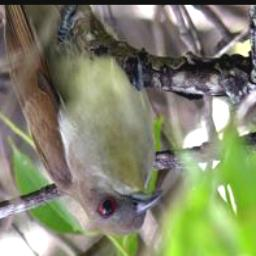Cuckoo: (3, 5, 164, 238)
